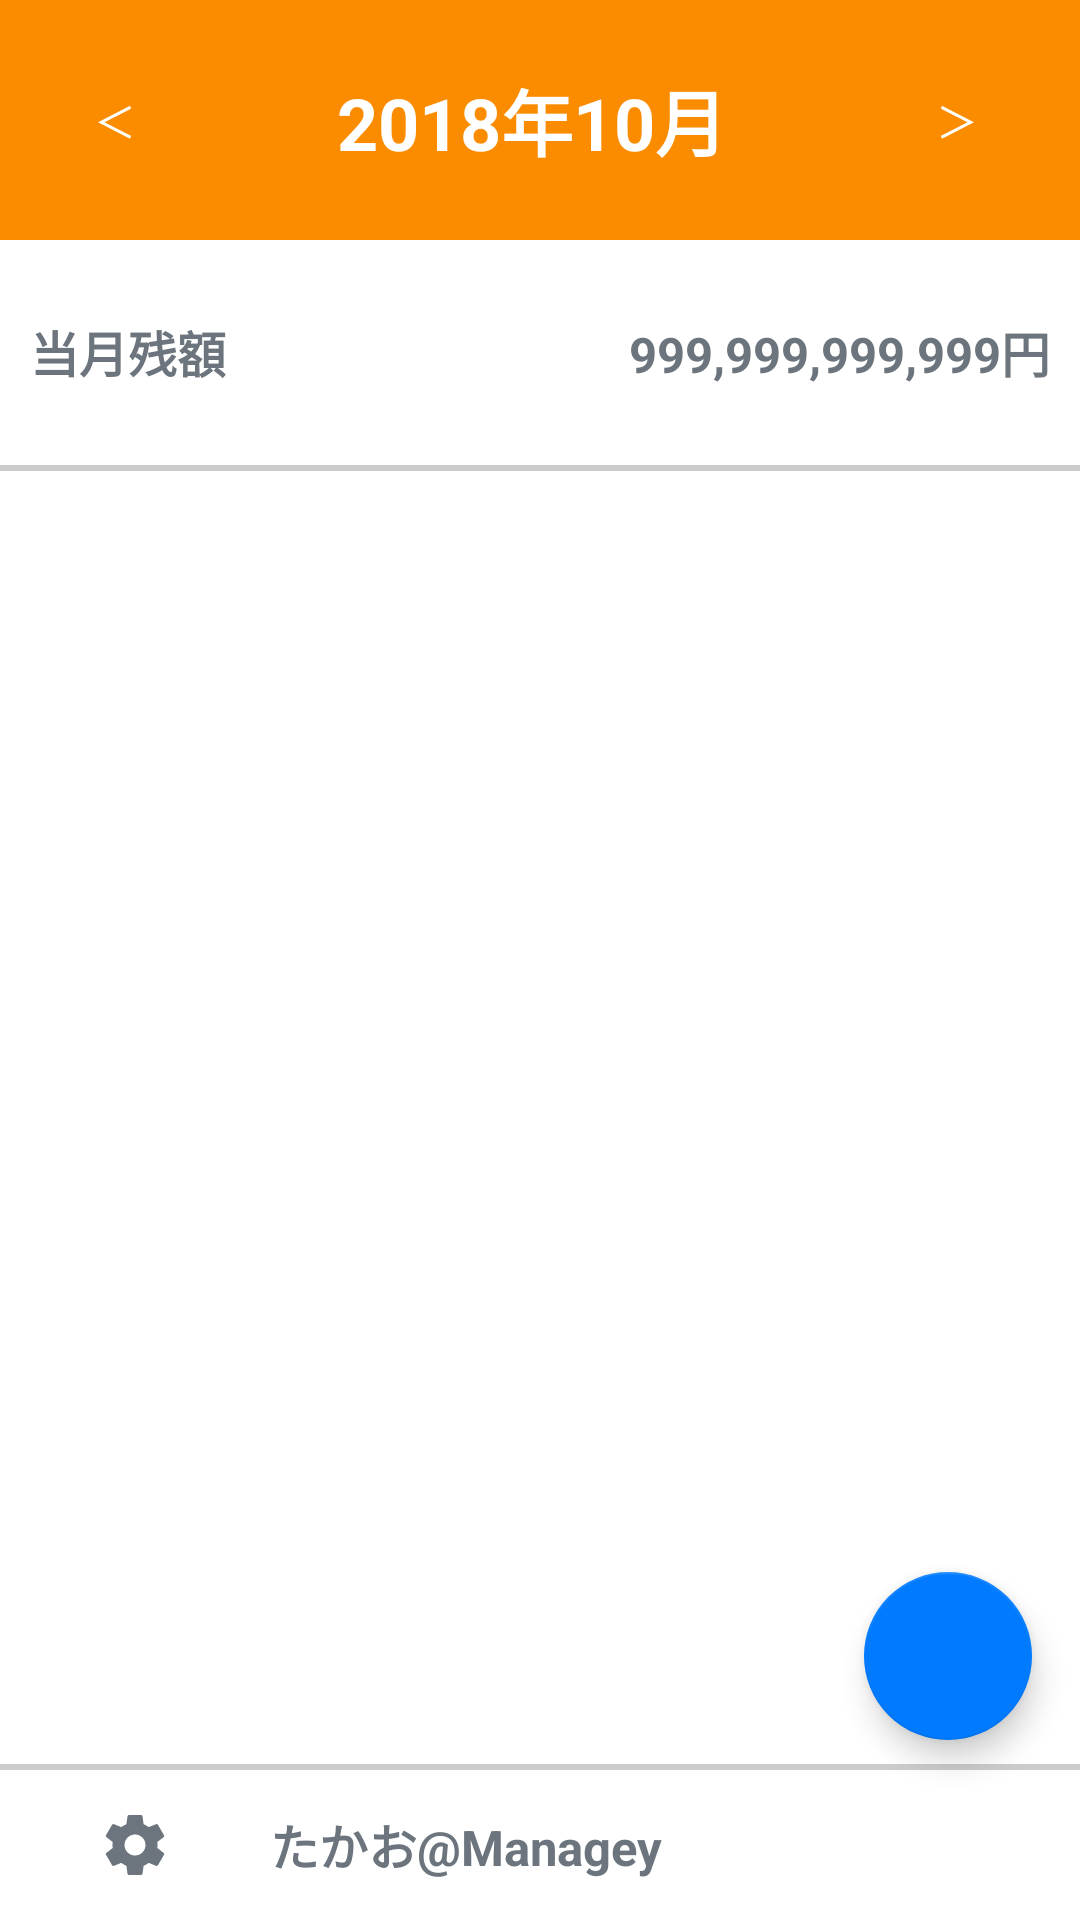

Named icons in this screenshot (1080x1920) and their bounding boxes, (x1, y1, x2, y2):
settings: (106, 1815, 164, 1875)
